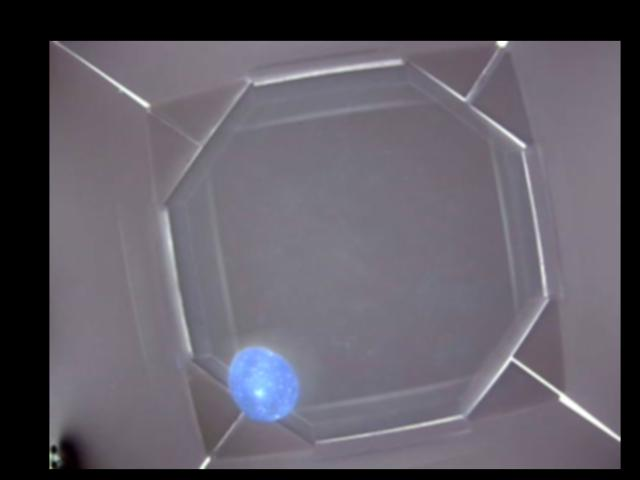Potato: (230, 346, 299, 422)
